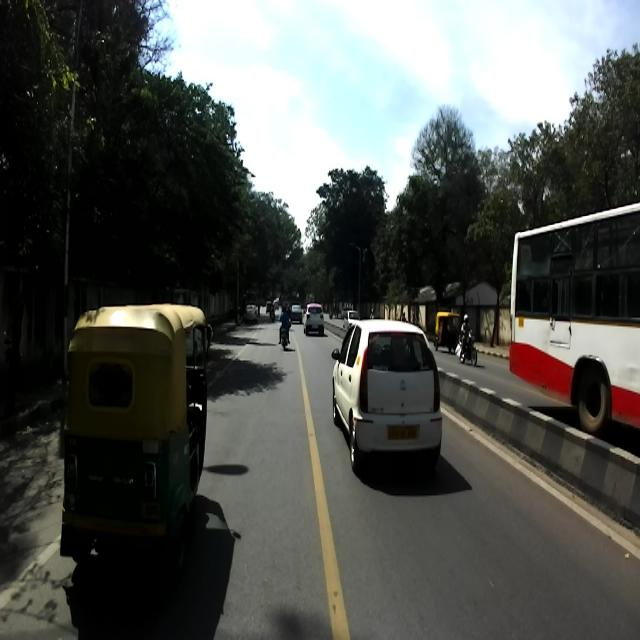Car: (302, 303, 324, 335)
Car_TATA: (331, 318, 442, 470)
autorickshaw: (58, 301, 212, 568)
bus: (508, 202, 640, 432)
motorcycle_TVS: (276, 317, 292, 353)
